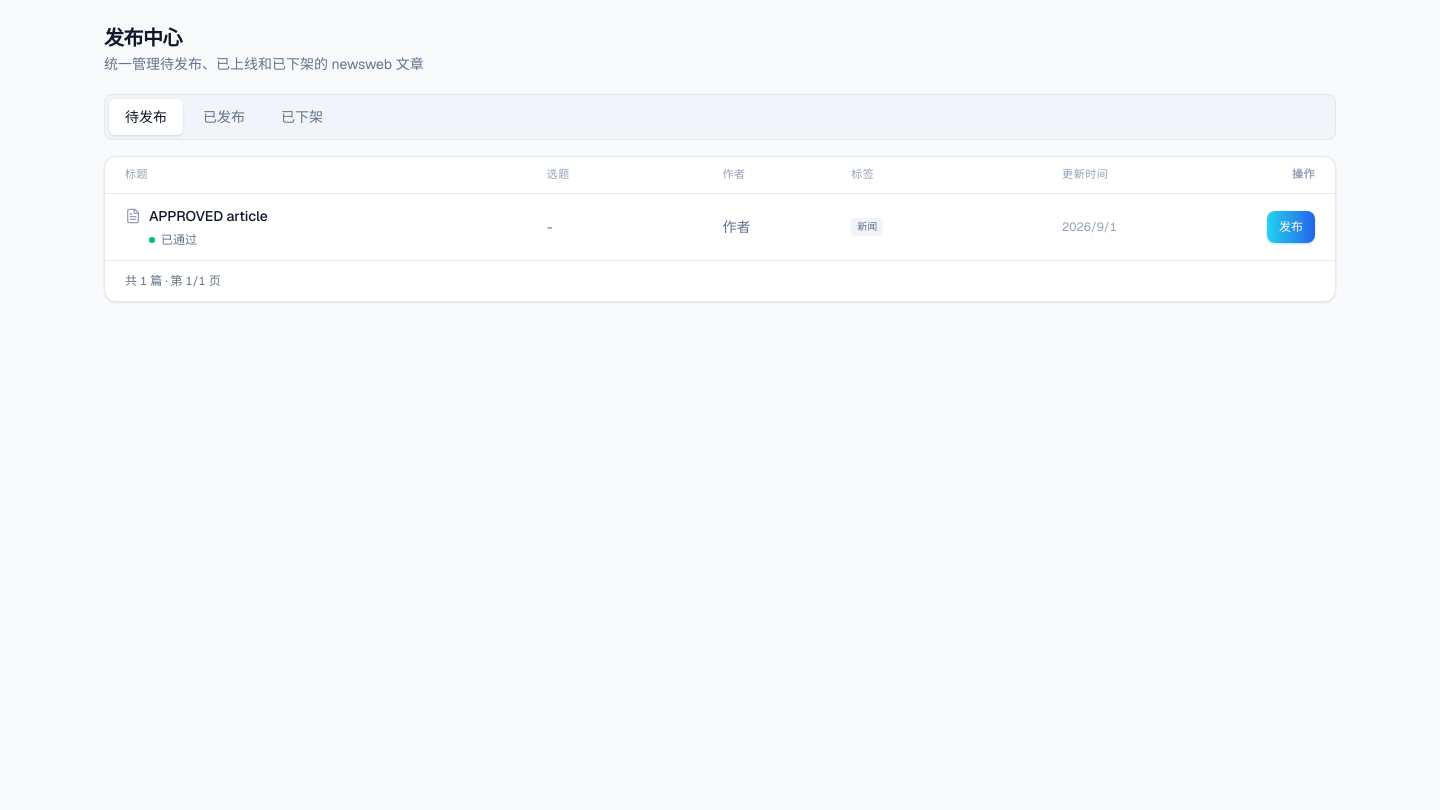
PublishCenterPage › shows the audited publication history for a managed article
Click the button "已发布" at (224, 117), box [187,99,261,135]
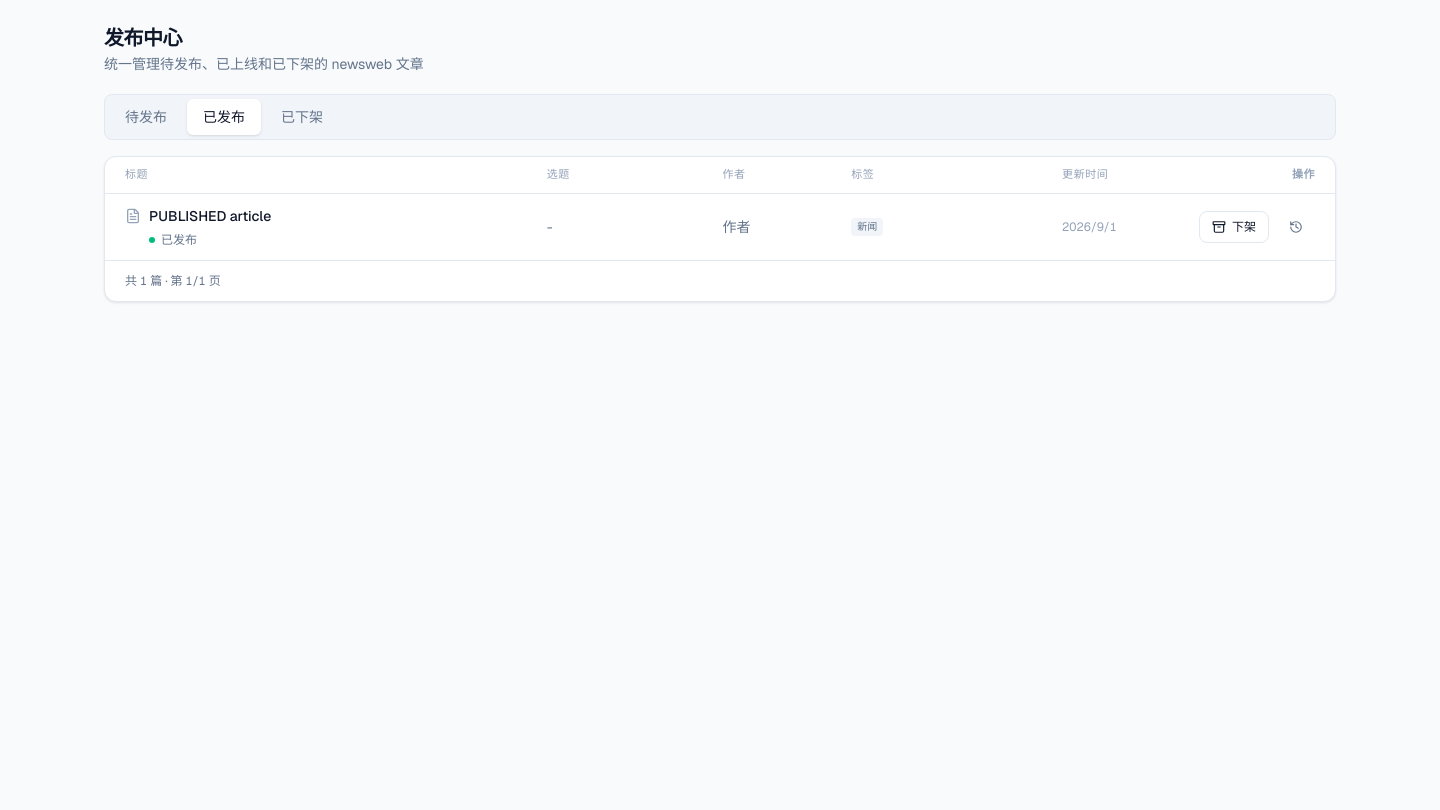
Result: the link "PUBLISHED article" is shown at [149,207,271,225]
Click the button named "操作记录" at (1296, 227), box [1277,211,1315,243]
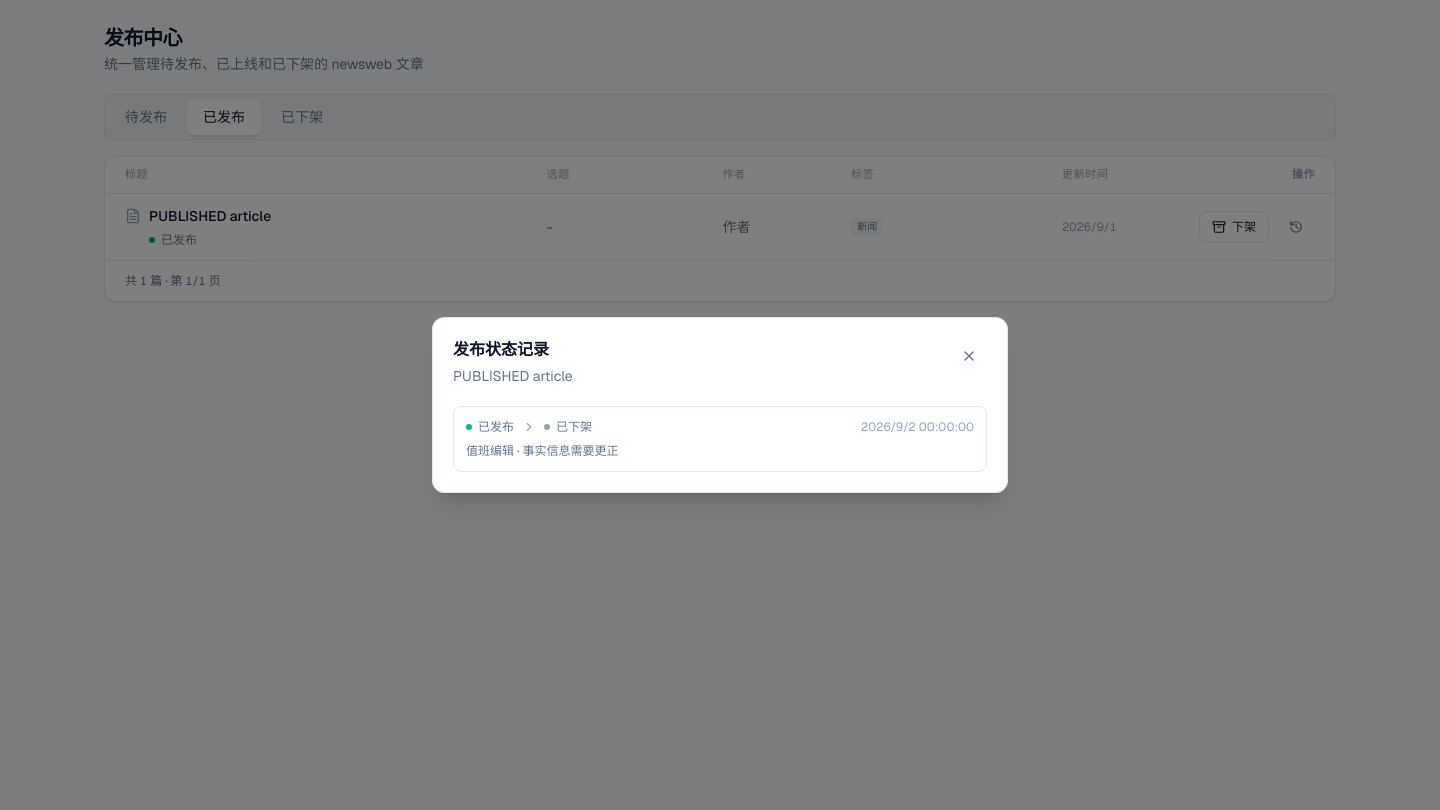
Result: the dialog "发布状态记录" shows "事实信息需要更正" at [522,443,618,459]
Result: the dialog "发布状态记录" shows "值班编辑" at [466,443,514,459]
